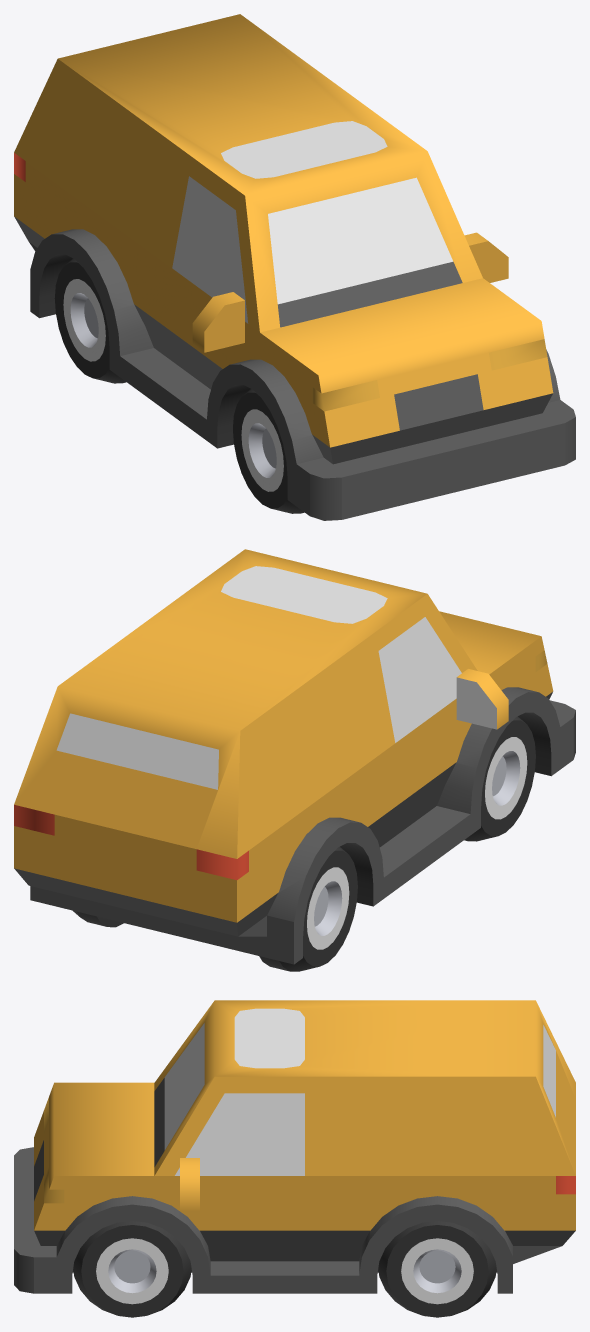
The model's file is suvLuxury.obj.
3 views of the same model, one above another, from view 1: azimuth 30°, elevation 25°; view 2: azimuth 150°, elevation 25°; view 3: azimuth 270°, elevation 25° (orthographic). The views are drawn at different scales.
Visible parts, largest first — view 1: body, wheel_backRight, wheel_frontRight; view 2: body, wheel_backRight, wheel_frontRight; view 3: body, wheel_frontLeft, wheel_backLeft.
Part boxes in pixels (x1,y1,x2,y2): body: [14, 14, 575, 520]; wheel_backRight: [54, 258, 126, 383]; wheel_frontRight: [233, 389, 304, 513]; body: [14, 549, 575, 964]; wheel_backRight: [259, 846, 357, 971]; wheel_frontRight: [464, 716, 535, 841]; body: [14, 1000, 575, 1293]; wheel_frontLeft: [73, 1221, 191, 1317]; wheel_backLeft: [378, 1221, 496, 1317].
Size of the model in its own units: 1.5 by 1.3 by 2.8.
